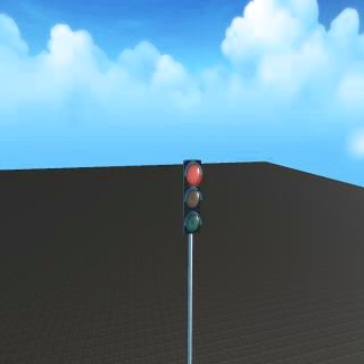sinalRed: (180, 158, 204, 243)
